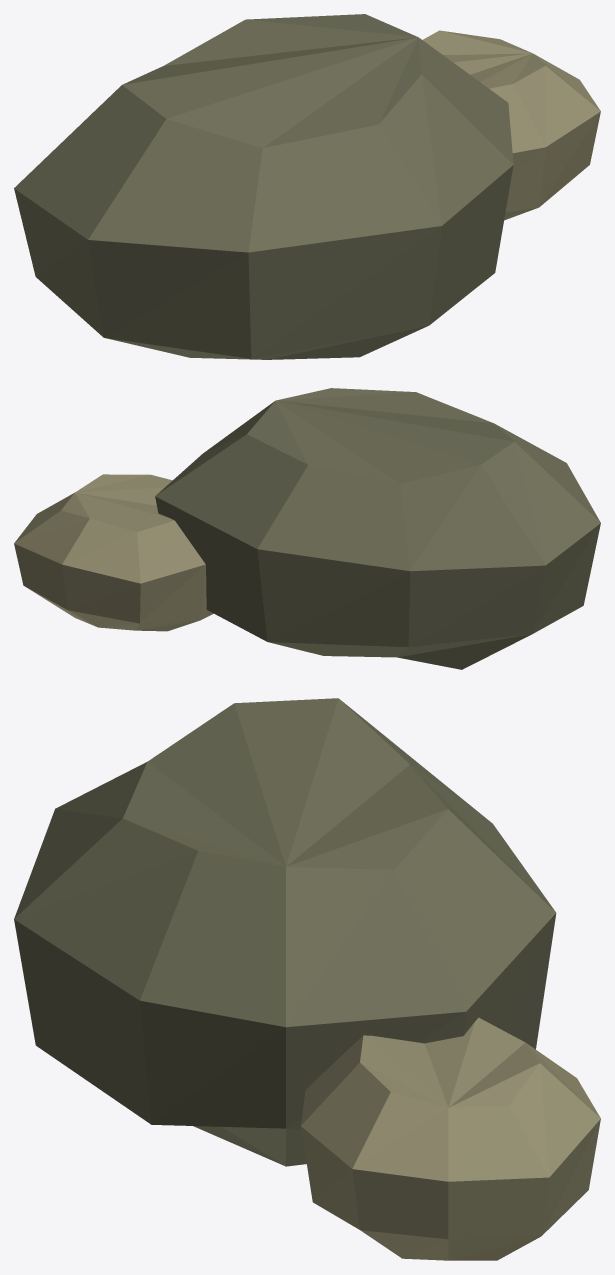
The model's file is bed_rocks_1.obj.
3 views of the same model, one above another, from view 1: azimuth 30°, elevation 25°; view 2: azimuth 150°, elevation 25°; view 3: azimuth 270°, elevation 25° (orthographic). The views are drawn at different scales.
Parts seen in each view (by area): view 1: bed_rocks_1; view 2: bed_rocks_1; view 3: bed_rocks_1.
Part boxes in pixels (x1=…): bed_rocks_1: x1=14, y1=14, x2=600, y2=359; bed_rocks_1: x1=14, y1=388, x2=600, y2=669; bed_rocks_1: x1=14, y1=698, x2=600, y2=1260.
Size of the model in its own units: 3.89 by 1.64 by 2.71.
